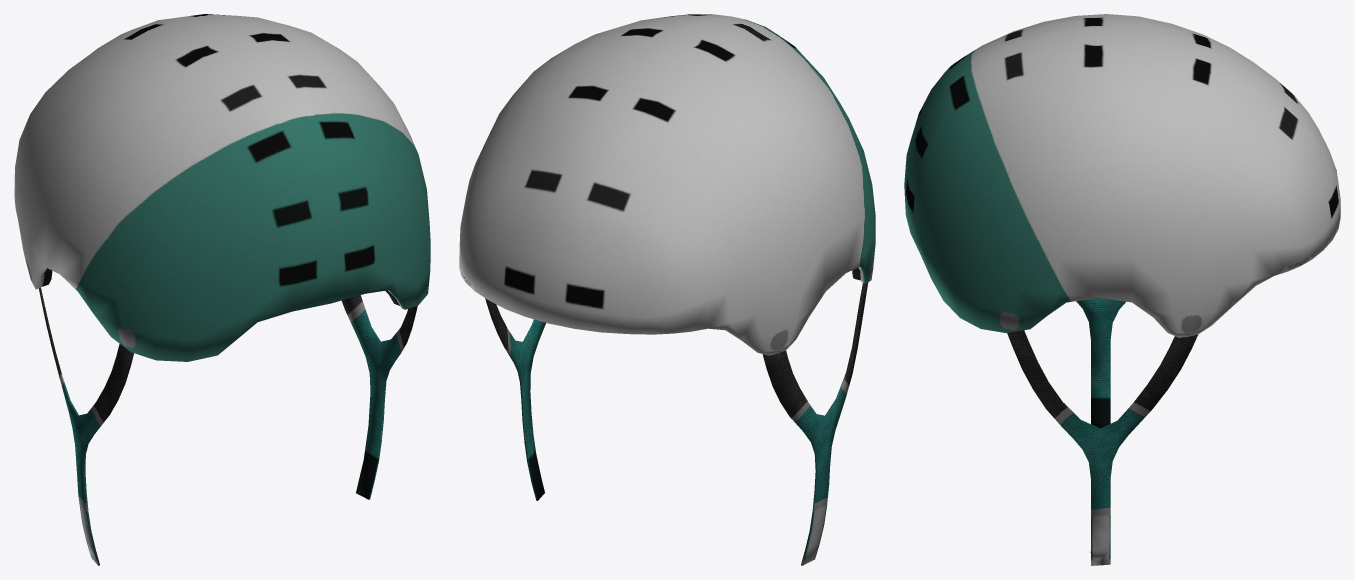
The model's file is bicycleHelmet.gltf.
3 views of the same model, side by side, from view 1: azimuth 30°, elevation 25°; view 2: azimuth 150°, elevation 25°; view 3: azimuth 270°, elevation 25° (orthographic). The views are drawn at different scales.
Visible parts, largest first — view 1: bicycleHelmet; view 2: bicycleHelmet; view 3: bicycleHelmet.
Part boxes in pixels (x1,y1,x2,y2): bicycleHelmet: (14,14,430,565); bicycleHelmet: (459,14,875,565); bicycleHelmet: (904,14,1340,565).
Size of the model in its own units: 1.4 by 1.93 by 1.63.
Materials: 1 (1 with a texture image).
